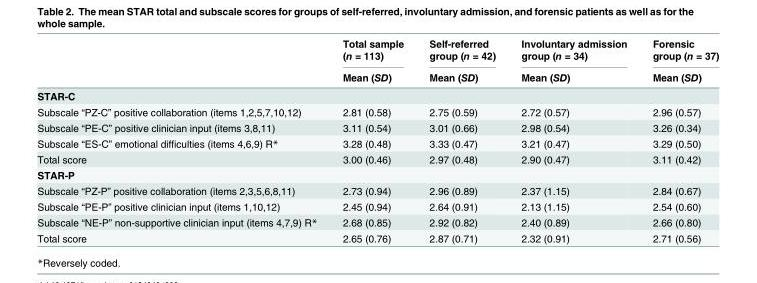table: (36, 37, 718, 243)
table column: (36, 37, 329, 243), (507, 37, 639, 243), (415, 37, 507, 243), (329, 37, 415, 243), (639, 37, 718, 243)
table column header: (36, 37, 718, 86)
table projected row header: (36, 86, 718, 103), (36, 166, 718, 182)
table row: (36, 37, 718, 66), (36, 66, 718, 86), (36, 86, 718, 103), (36, 103, 718, 119), (36, 119, 718, 135), (36, 135, 718, 151), (36, 166, 718, 182), (36, 182, 718, 198), (36, 198, 718, 214), (36, 214, 718, 230), (36, 151, 718, 166), (36, 230, 718, 243)
table spanning cell: (507, 37, 639, 86), (415, 37, 507, 86), (329, 37, 415, 86), (639, 37, 718, 86)
